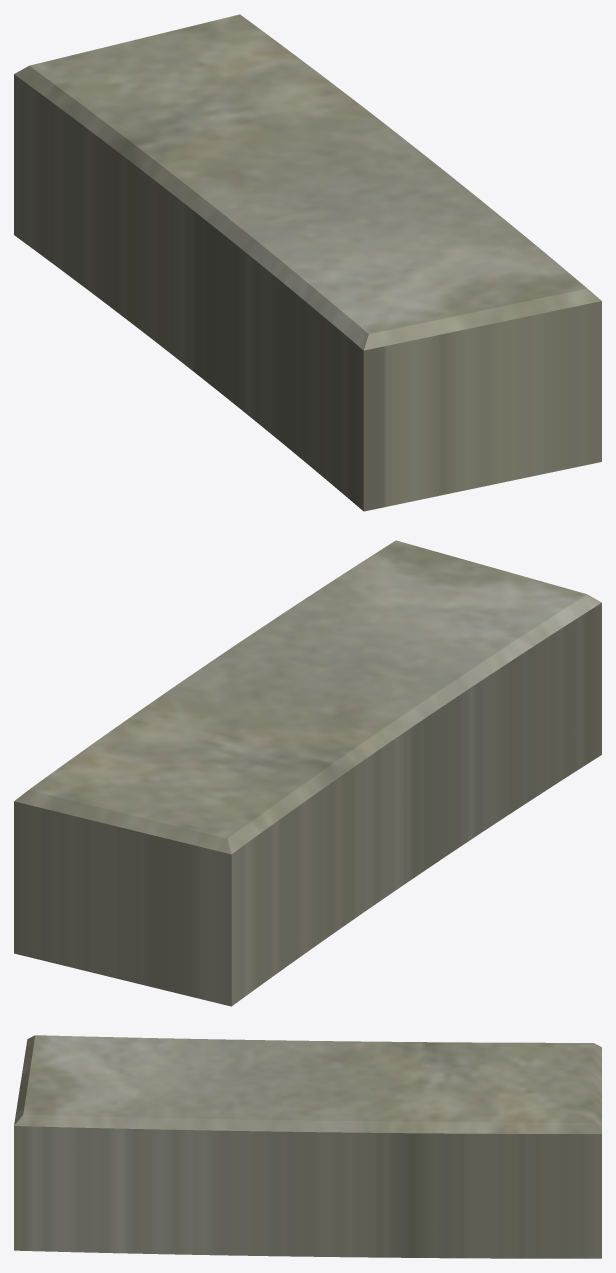
The model's file is f03-s-stone-pool-trim-half.glb.
3 views of the same model, one above another, from view 1: azimuth 30°, elevation 25°; view 2: azimuth 150°, elevation 25°; view 3: azimuth 270°, elevation 25° (orthographic). The views are drawn at different scales.
Visible parts, largest first — view 1: f03-s-stone-pool-trim-half; view 2: f03-s-stone-pool-trim-half; view 3: f03-s-stone-pool-trim-half.
Part boxes in pixels (x1=…): f03-s-stone-pool-trim-half: x1=14, y1=14, x2=601, y2=511; f03-s-stone-pool-trim-half: x1=14, y1=540, x2=601, y2=1006; f03-s-stone-pool-trim-half: x1=14, y1=1035, x2=601, y2=1258.
Bounding box in the file's own units: 0.2074 × 0.135 × 0.5427.
Materials: 1 (1 with a texture image).
